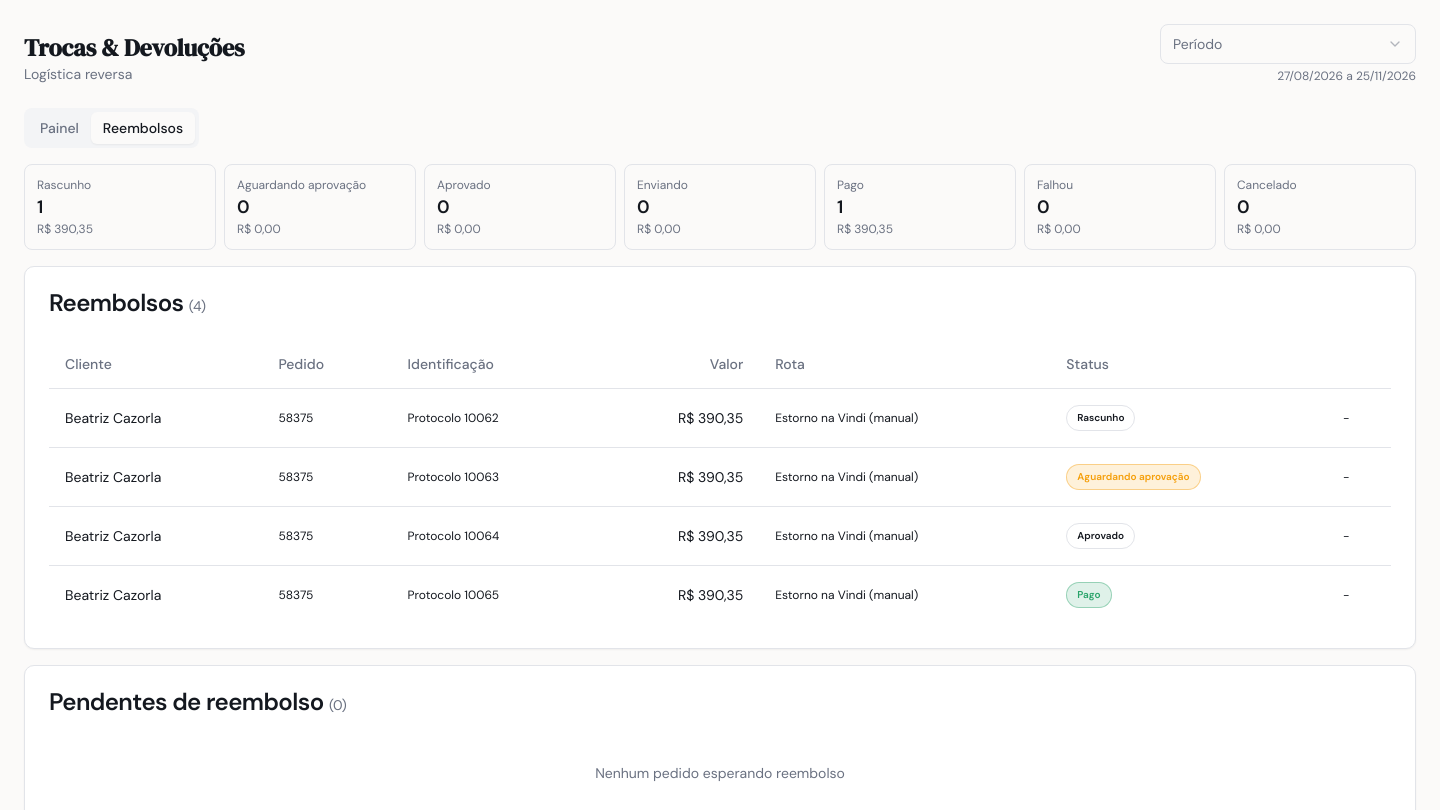
Test: ações do reembolso › rótulos, cards e filtro
Expected: the text "Protocolo 10062" is shown, [392,388,597,447]
Expected: the 1st text "Aguardando aprovação" is shown, [237,177,366,193]
What coordinates should you click on to do the following:
click the button "Pago 1 R$ 390,35"
I would click on:
 (920, 207)
Its box is [824,164,1016,250].
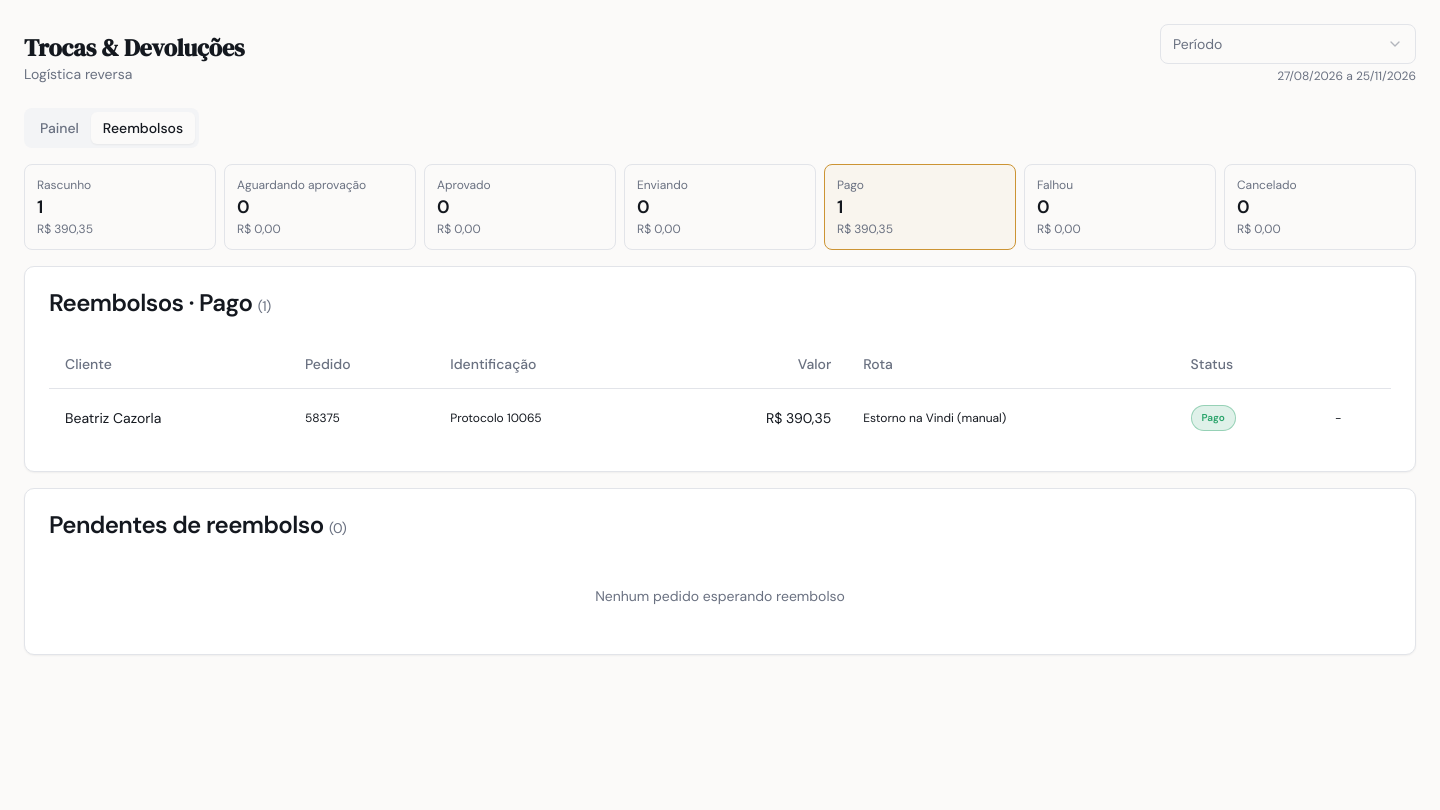
Expected: the text "Protocolo 10065" is shown, [434,388,665,446]
Expected: the text "Protocolo 10062" is gone
